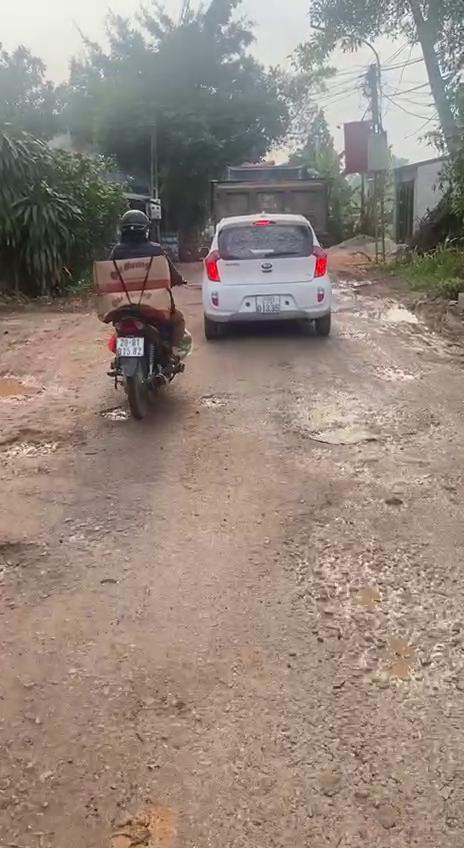pothole: (292, 512, 464, 698), (283, 395, 434, 449), (0, 532, 63, 611), (0, 427, 88, 463), (0, 368, 56, 405), (97, 404, 132, 427)
